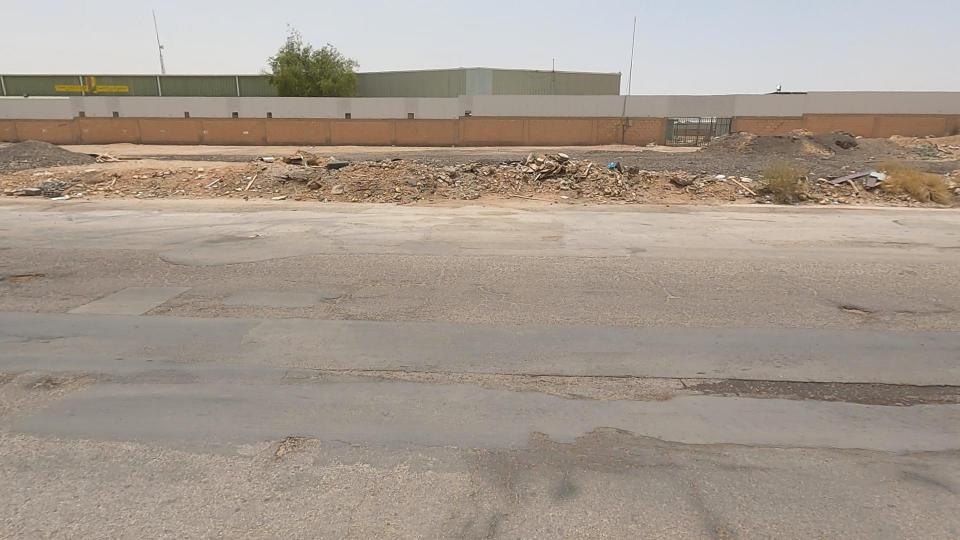GARBAGE: (780, 142, 944, 223), (202, 128, 368, 202), (547, 134, 685, 216), (470, 123, 608, 201), (677, 151, 788, 222)
POTHOLES: (584, 303, 960, 481), (421, 321, 702, 444), (210, 401, 392, 510), (774, 264, 923, 370), (0, 324, 126, 447), (0, 234, 96, 329)
